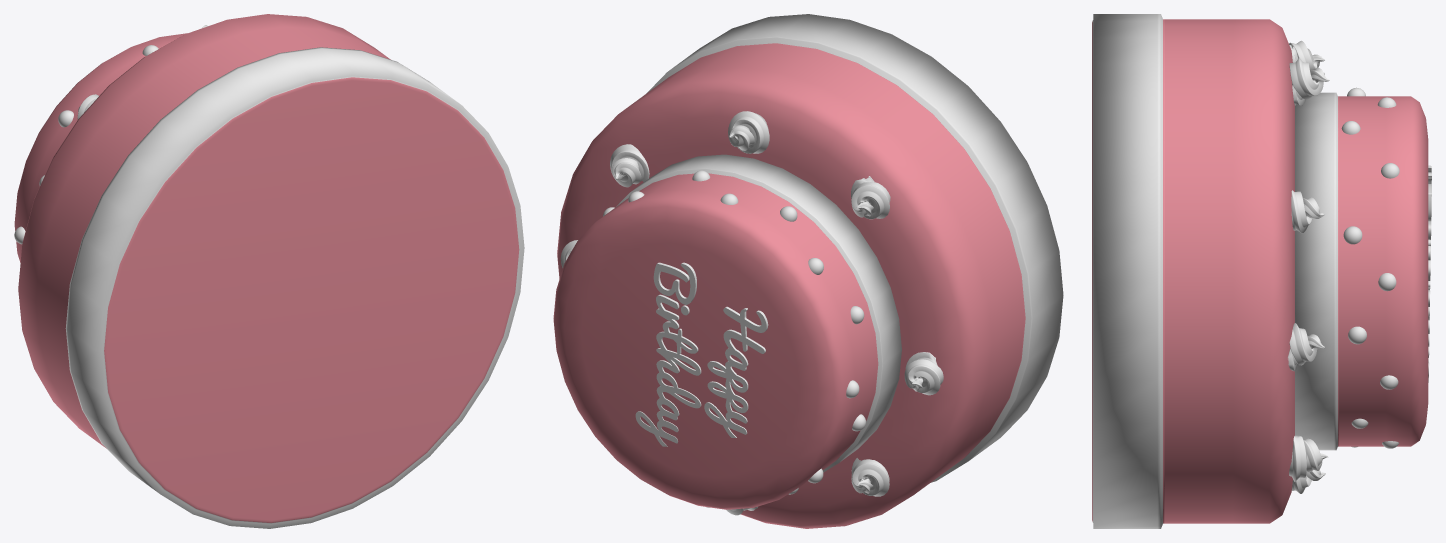
File: cake.gltf
3 renders of one model, left to right at view 1: azimuth 30°, elevation 25°; view 2: azimuth 150°, elevation 25°; view 3: azimuth 270°, elevation 25°, orthographic. The views are drawn at different scales.
Parts seen in each view (by area): view 1: Cake layer 1.001, Cake layer 1; view 2: Cake layer 1.001, Cake layer 1, Text, Spiral.003, Spiral.007, Spiral.004, Spiral.005, Spiral.008; view 3: Cake layer 1.001, Cake layer 1, Spiral.003, Spiral.006, Spiral.000, Spiral.005, Text, Spiral.007.
Boxes of the visible parts, <box> form: Cake layer 1.001: <box>18,14,524,528</box>; Cake layer 1: <box>14,33,187,262</box>; Cake layer 1.001: <box>557,14,1063,528</box>; Cake layer 1: <box>553,154,901,509</box>; Text: <box>635,262,768,446</box>; Spiral.003: <box>728,111,769,153</box>; Spiral.007: <box>851,176,890,219</box>; Spiral.004: <box>904,352,943,395</box>; Spiral.005: <box>610,144,649,187</box>; Spiral.008: <box>851,458,889,496</box>; Cake layer 1.001: <box>1092,14,1294,528</box>; Cake layer 1: <box>1295,92,1428,450</box>; Spiral.003: <box>1289,57,1329,105</box>; Spiral.006: <box>1289,435,1327,481</box>; Spiral.000: <box>1287,323,1324,371</box>; Spiral.005: <box>1291,190,1324,232</box>; Text: <box>1428,165,1431,382</box>; Spiral.007: <box>1289,40,1324,70</box>.
Size of the model in its own units: 4.51 by 4.51 by 2.97.
